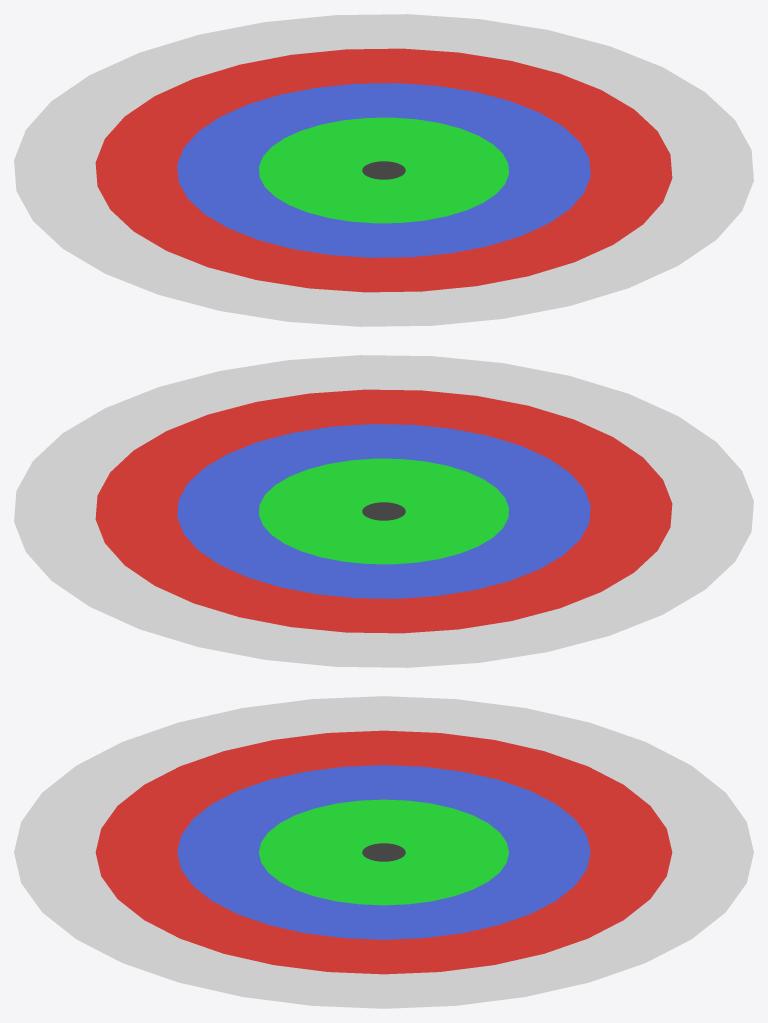
File: aree di gioco.fbx
3 views of the same model, one above another, from view 1: azimuth 30°, elevation 25°; view 2: azimuth 150°, elevation 25°; view 3: azimuth 270°, elevation 25° (orthographic).
Parts seen in each view (by area): view 1: cerchio5, cerchio4, cerchio3, cerchio2, cerchio1; view 2: cerchio5, cerchio4, cerchio3, cerchio2, cerchio1; view 3: cerchio5, cerchio4, cerchio3, cerchio2, cerchio1.
Boxes of the visible parts, x1,y1,x2,y2 form: cerchio5: (14, 14, 753, 326); cerchio4: (95, 48, 672, 292); cerchio3: (177, 83, 590, 257); cerchio2: (259, 117, 508, 223); cerchio1: (362, 161, 405, 179); cerchio5: (14, 355, 753, 667); cerchio4: (95, 389, 672, 633); cerchio3: (177, 424, 590, 598); cerchio2: (259, 458, 508, 564); cerchio1: (362, 502, 405, 520); cerchio5: (14, 696, 753, 1008); cerchio4: (95, 730, 672, 974); cerchio3: (177, 765, 590, 939); cerchio2: (259, 799, 508, 905); cerchio1: (362, 843, 405, 861).
Size of the model in its own units: 68000 by 0 by 68000.
